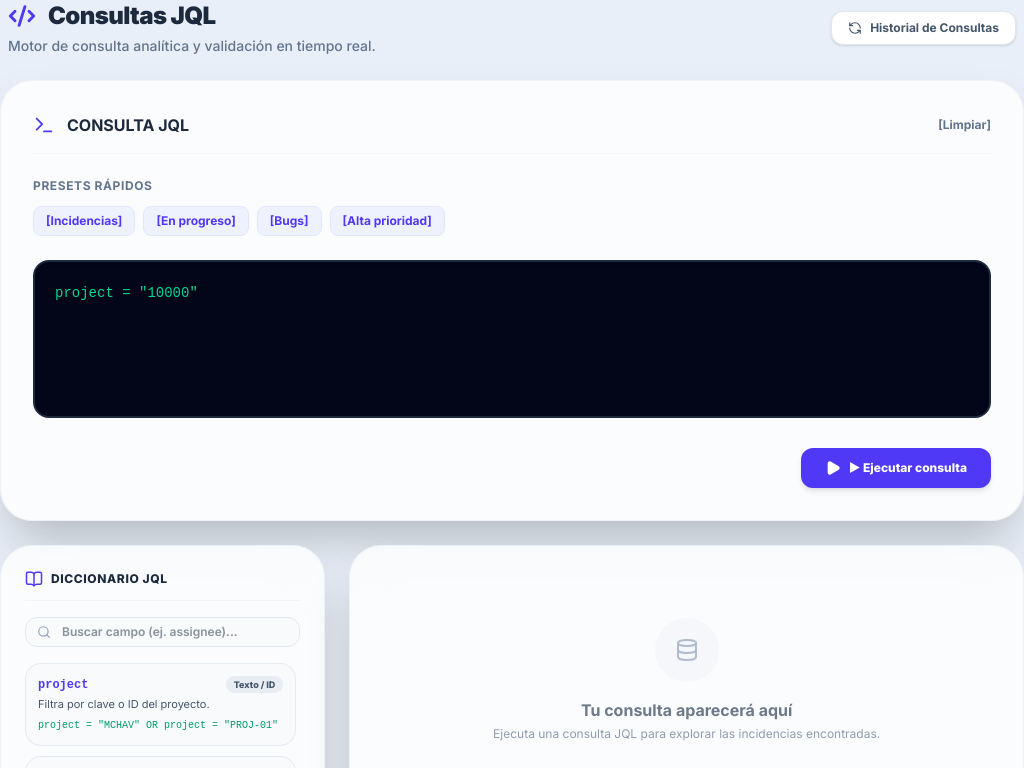
Scenario: JqlConsultasView › opens and closes audit drawer
Click the button "Historial de Consultas" at (924, 28), box [831,11,1016,45]
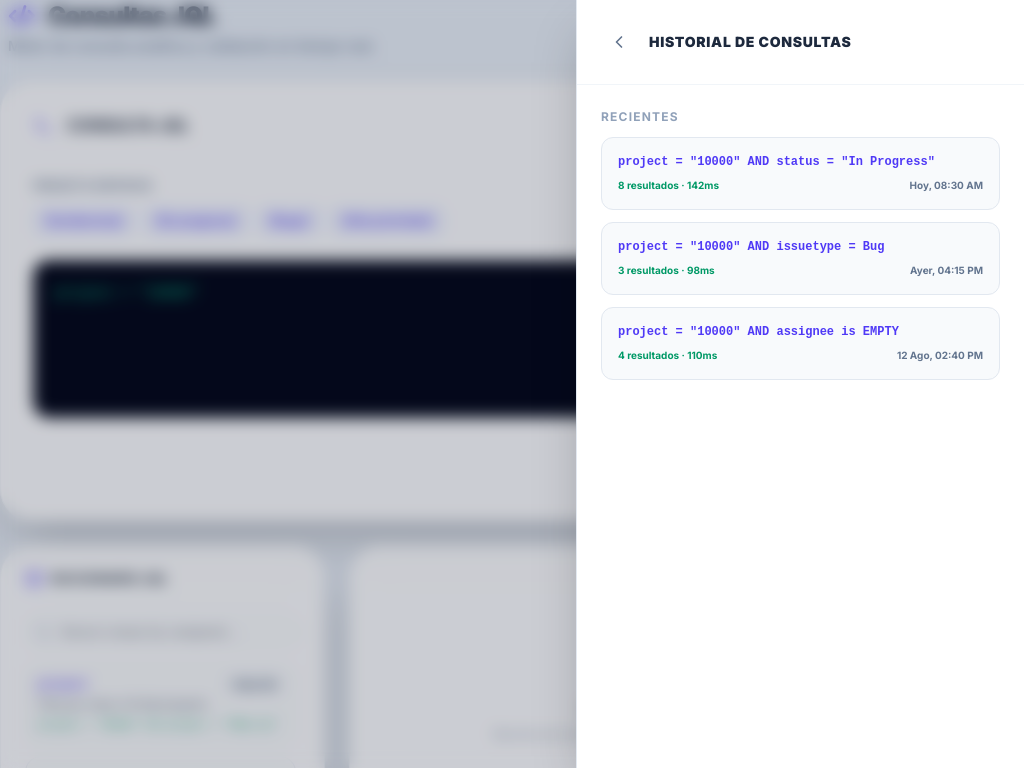
Check: the heading "HISTORIAL DE CONSULTAS" is shown, box [649,32,852,52]
click one of the history items
Click the text "project = \"10000\" AND issuetype = Bug" at (751, 247), box [618,240,884,254]
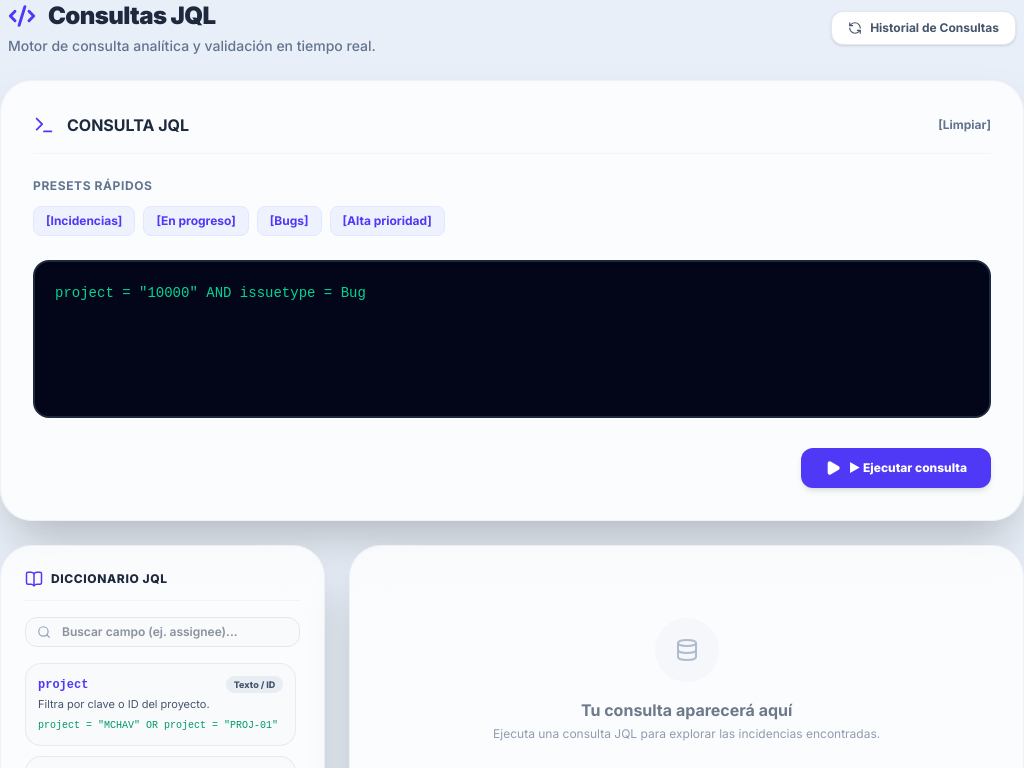
Check: the text box holds "project = \"10000\" AND issuetype = Bug", box [33,260,991,418]
